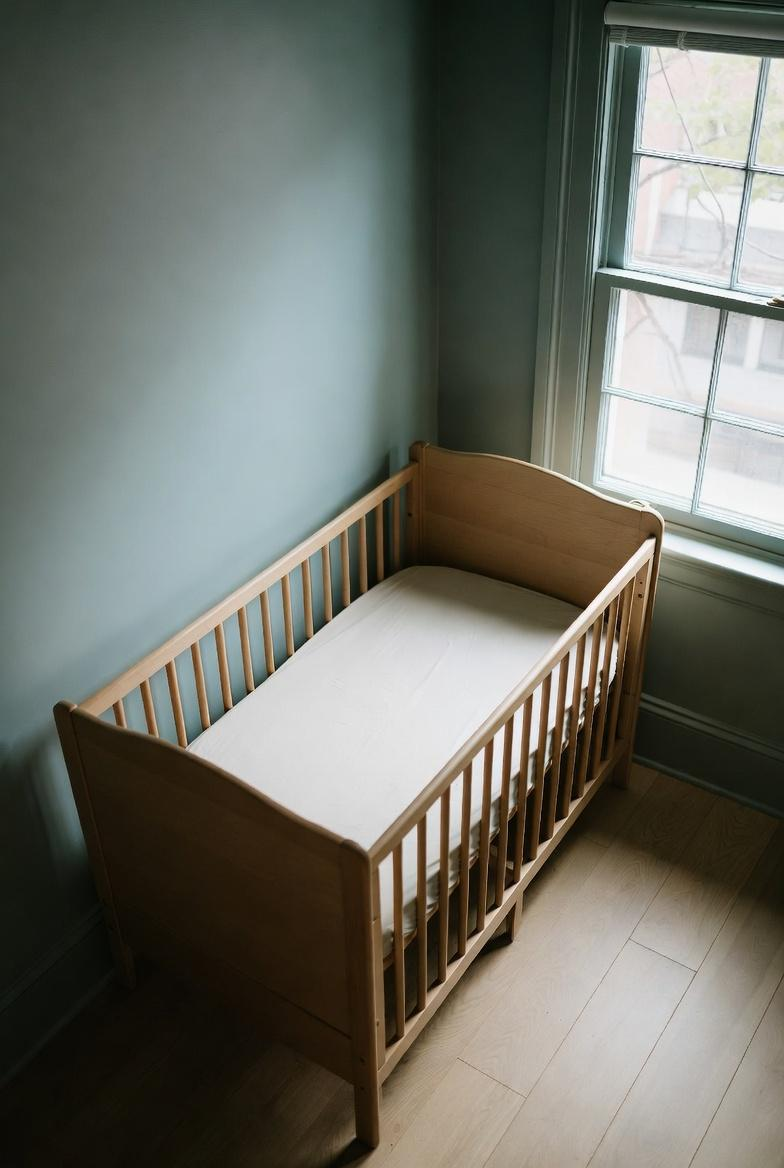crib: (45, 422, 675, 1155)
